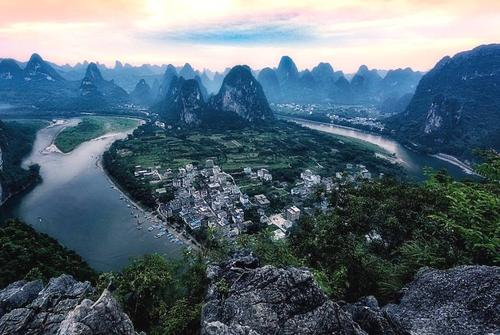mountain: (383, 52, 498, 166)
